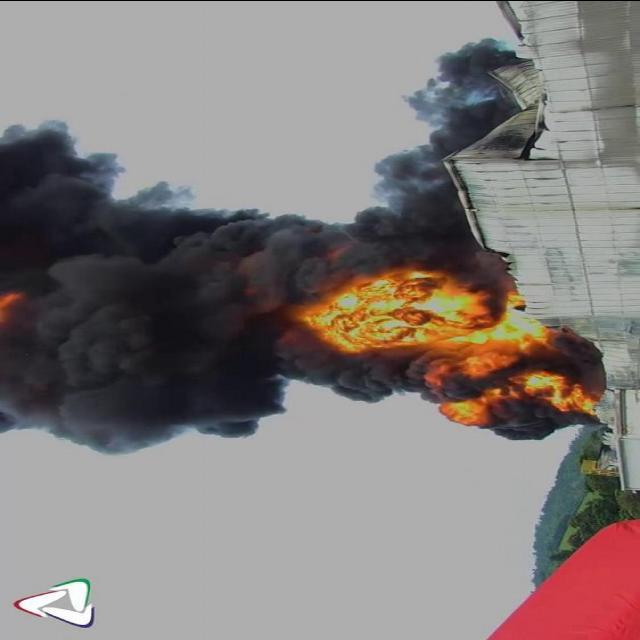Fire: (303, 274, 549, 352), (424, 369, 604, 427)
